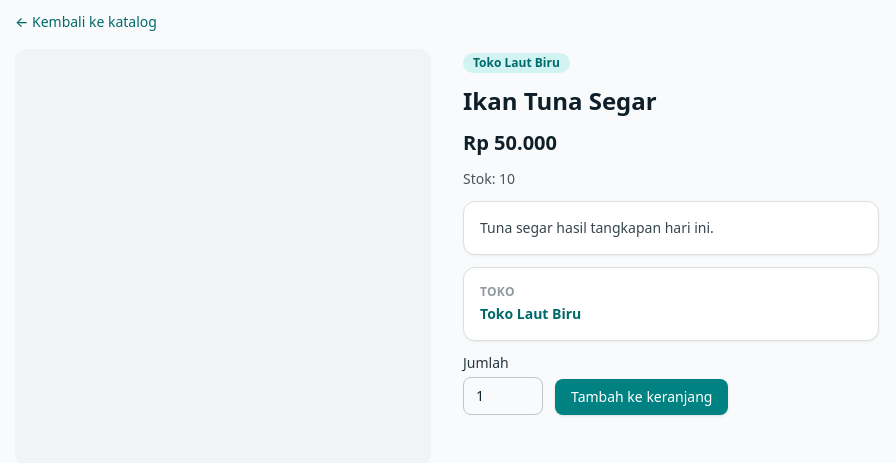
ProductDetail add-to-cart store-conflict dialog › does not show the conflict dialog for a non-conflict error
This screenshot has width=896, height=463.
Check: the heading "Ikan Tuna Segar" is shown, box [463,84,657,117]
Click the button "Tambah ke keranjang" at {"x": 642, "y": 397}, box [555,379,728,415]
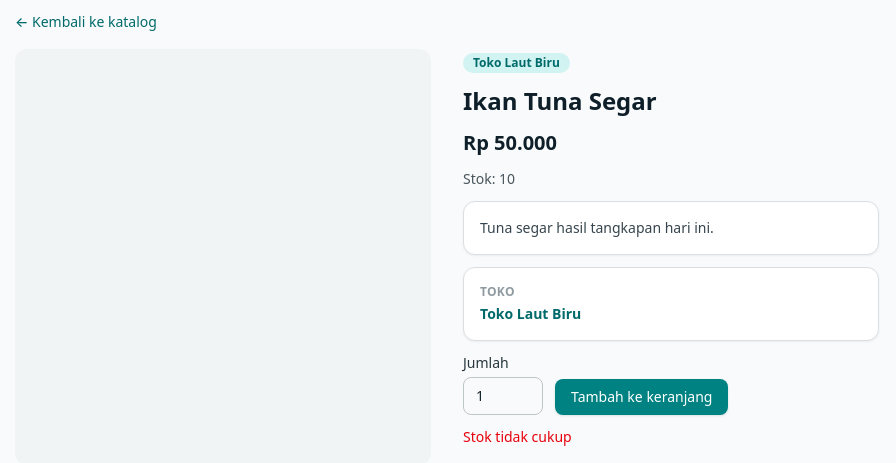
Check: the text "Stok tidak cukup" is shown, box [463,427,572,446]
